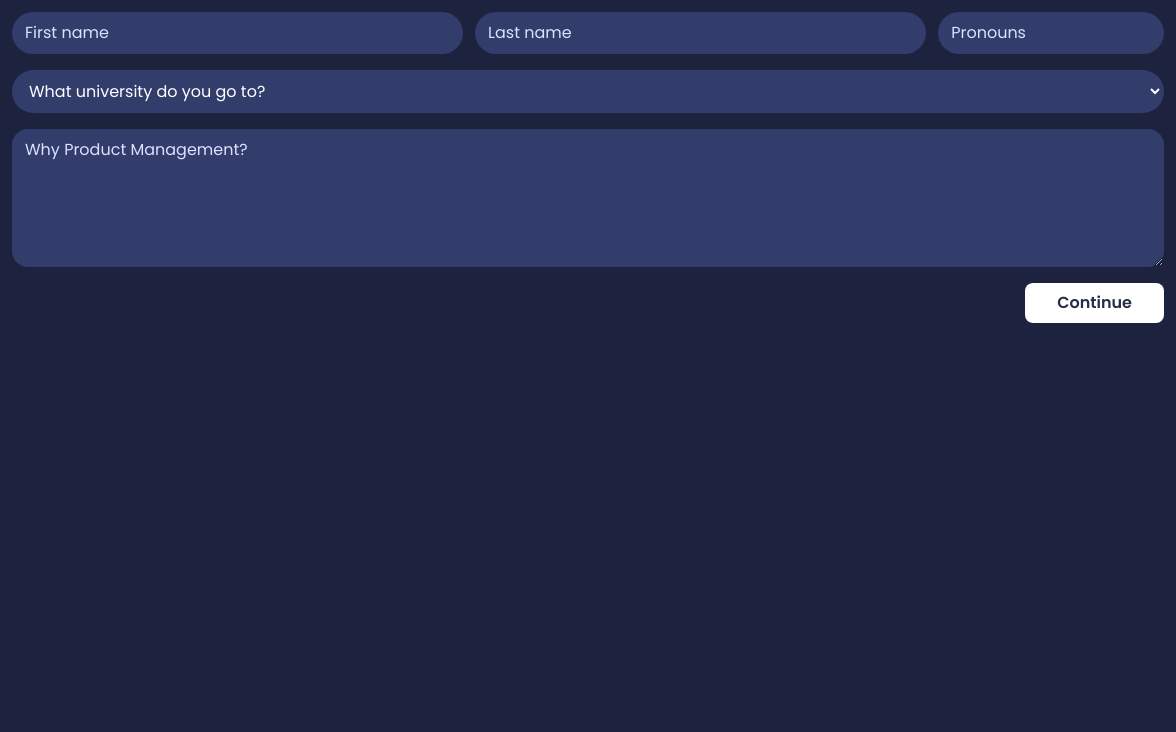
Test: UserDataForm › conditionally renders › renders correct fields for ubc student
Select "University of British Columbia" in the dropdown with test id "university-dropdown" at x=588, y=92, box [12,70,1164,113]
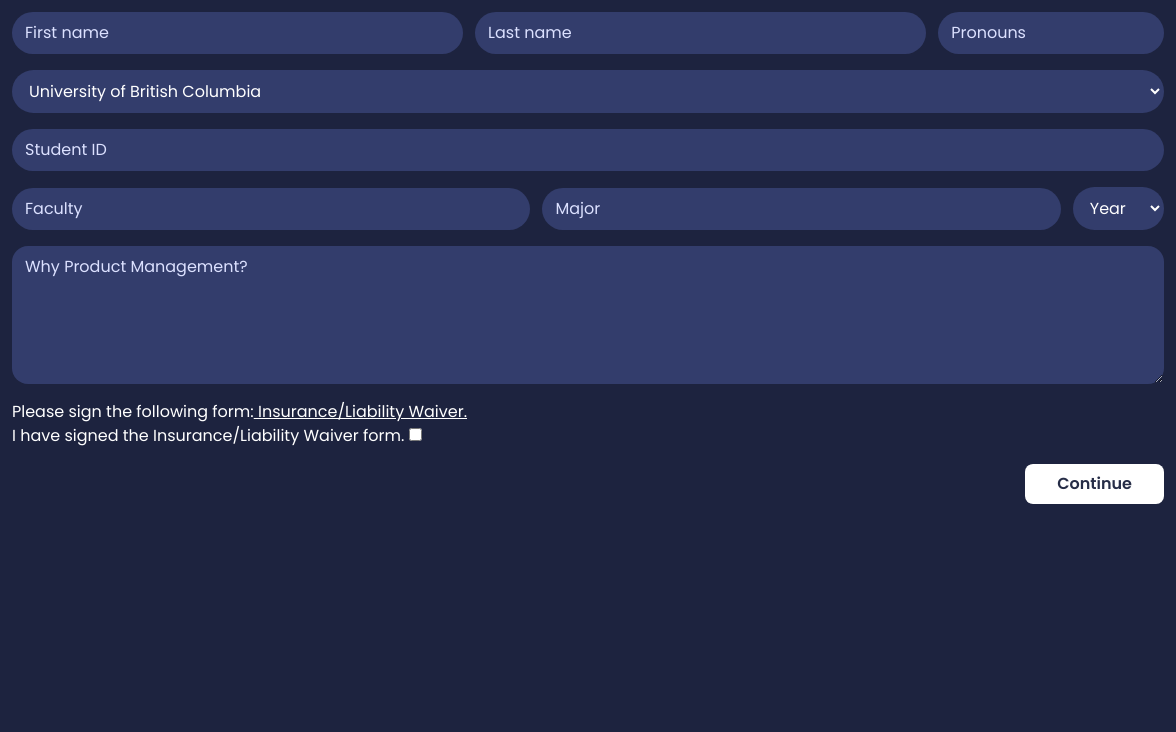
expect the field with placeholder "Student ID" is shown: met, box [12,129,1164,171]
expect the field with placeholder "Faculty" is shown: met, box [12,188,530,230]
expect the field with placeholder "Major" is shown: met, box [542,188,1061,230]
